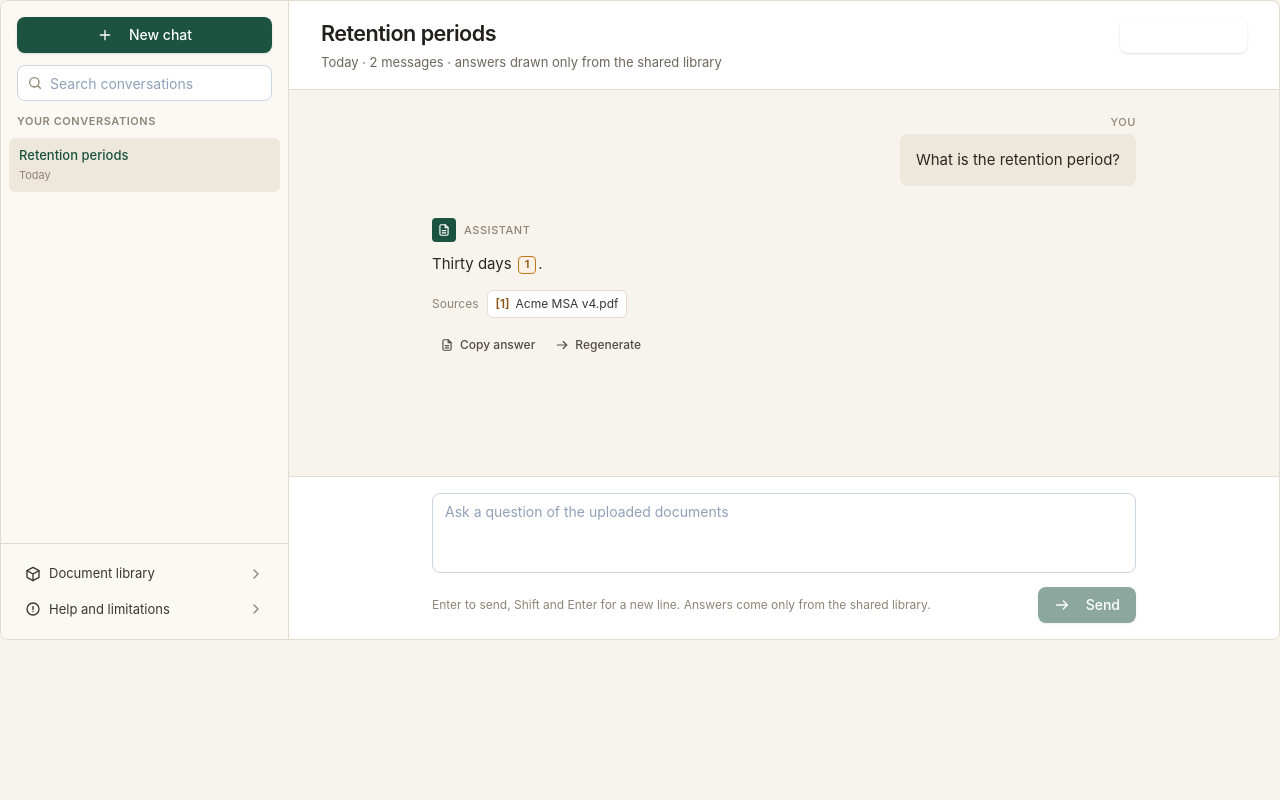
Test: Chat screen › citation panel: download original (AC-111, AC-113) › shows an unavailable message and disables download when the citation's deleted flag is true (AC-113)
Click the button named "Source 1: Acme MSA v4.pdf" at (527, 265), box [518,256,536,274]
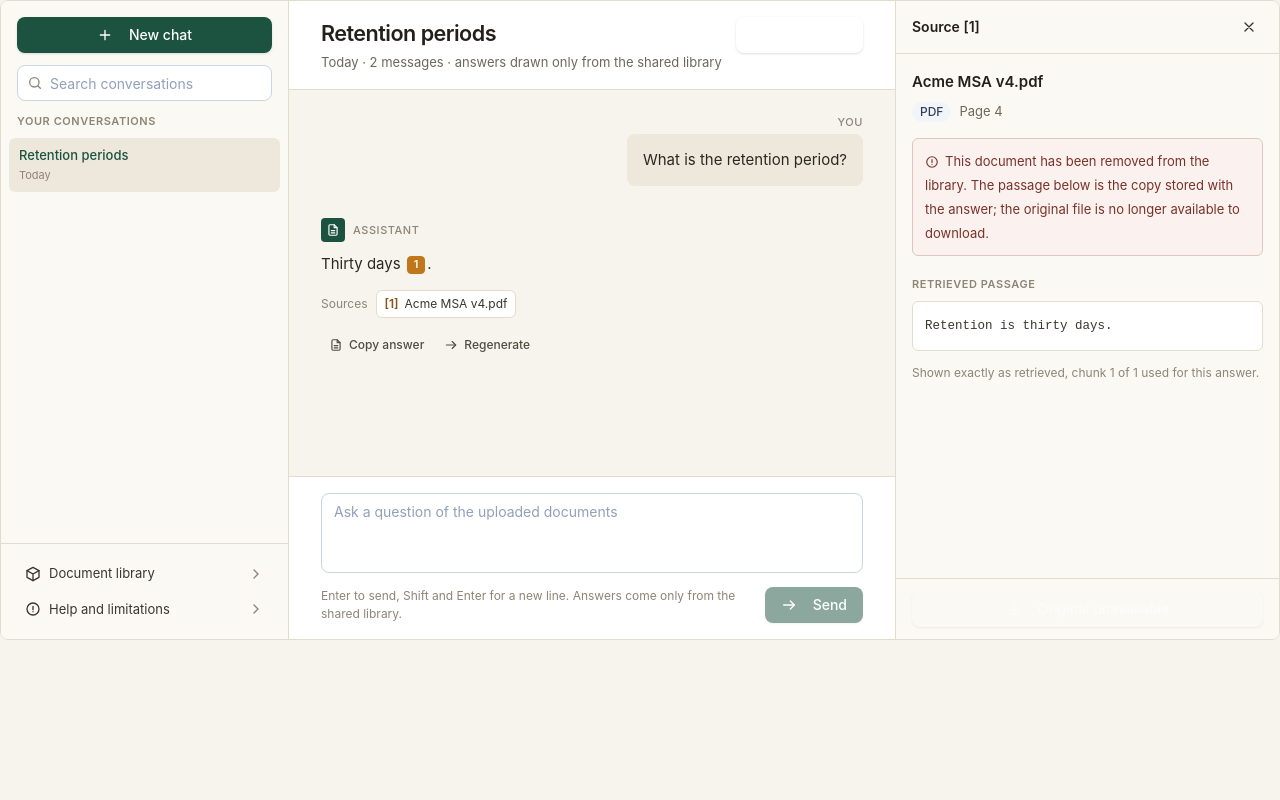
expect the text "no longer available to download" is shown: met, box [925,153,1240,241]
